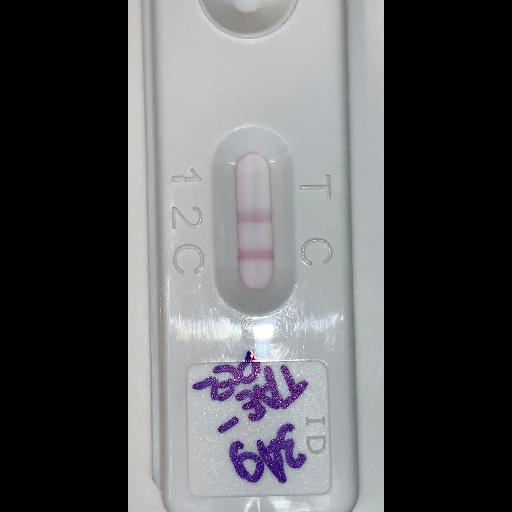Pos: (146, 0, 359, 511)
